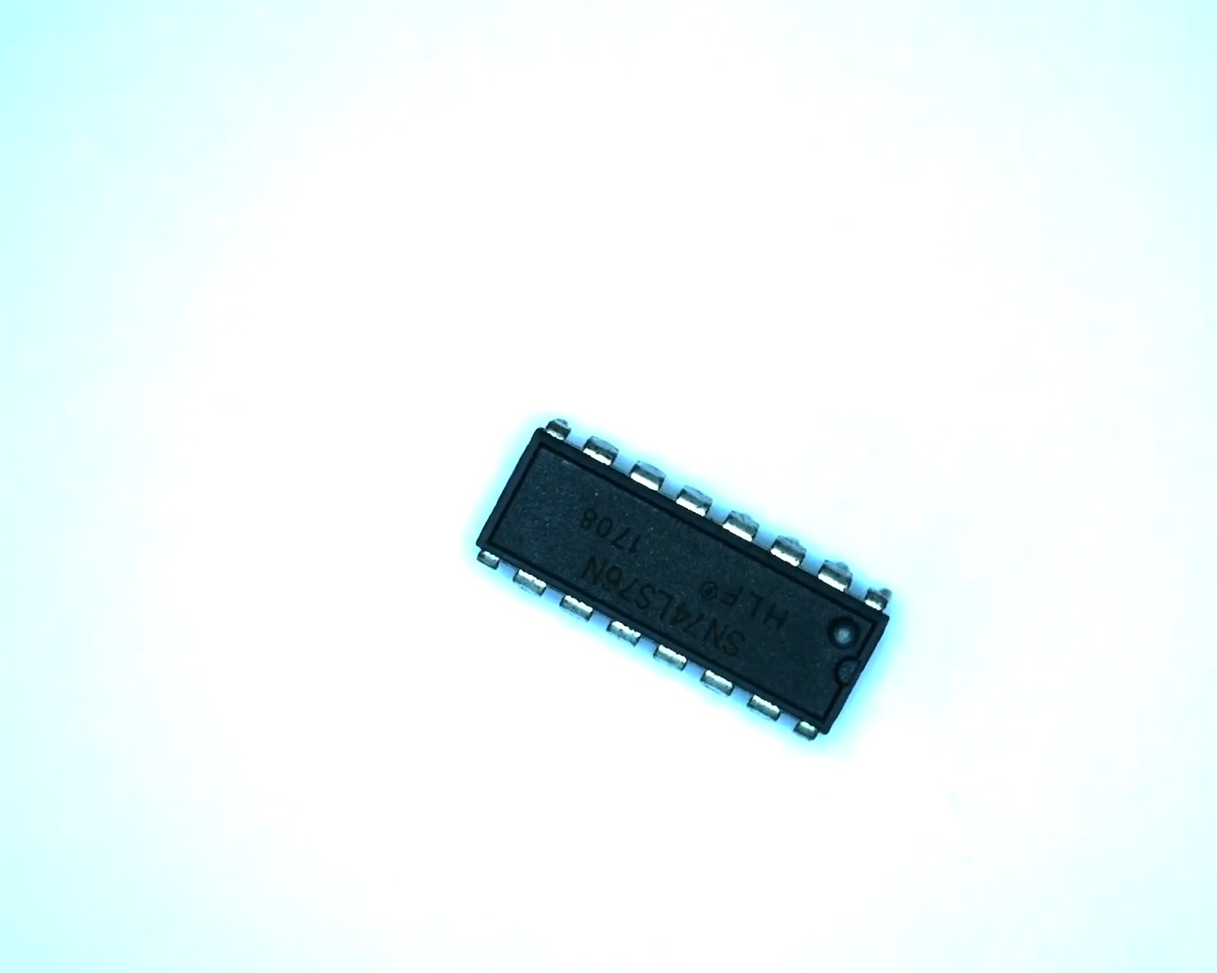IC: (459, 408, 907, 754)
notch: (833, 650, 867, 699)
